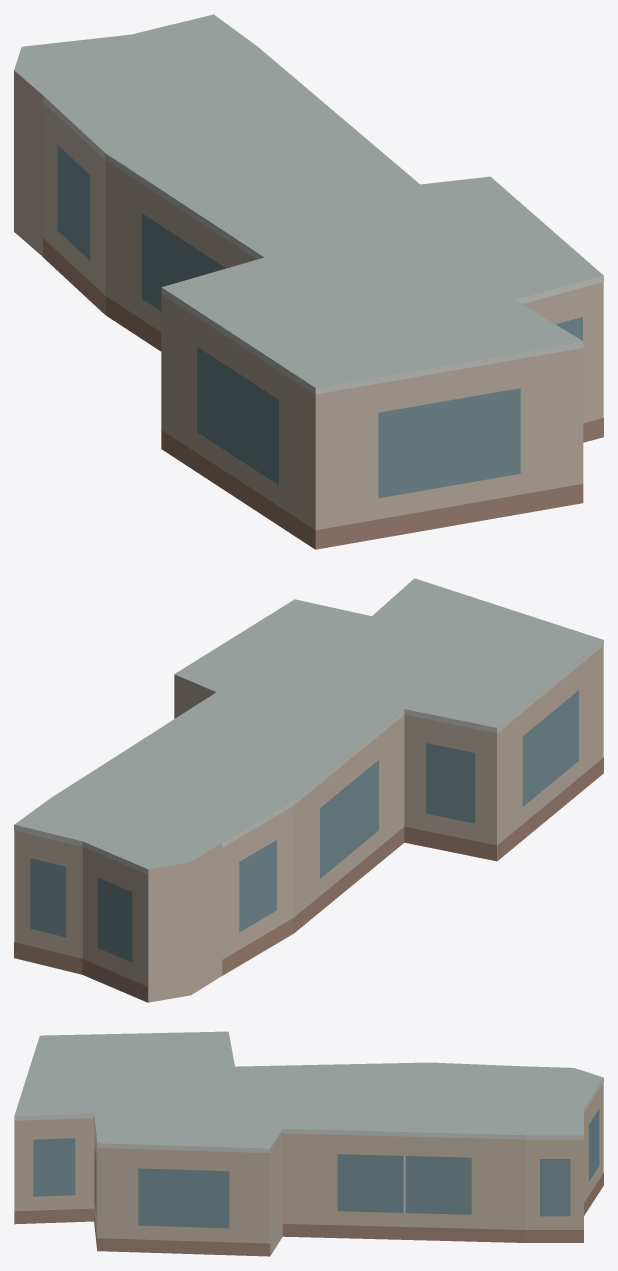
Rendered from survey-upis-32473235.glb.
3 renders of one model, top to bottom at view 1: azimuth 30°, elevation 25°; view 2: azimuth 150°, elevation 25°; view 3: azimuth 270°, elevation 25°, orthographic. The views are drawn at different scales.
Parts seen in each view (by area): view 1: survey-upis-32473235.tmp; view 2: survey-upis-32473235.tmp; view 3: survey-upis-32473235.tmp.
Boxes of the visible parts, x1,y1,x2,y2 form: survey-upis-32473235.tmp: (14, 14, 603, 549); survey-upis-32473235.tmp: (14, 578, 603, 1002); survey-upis-32473235.tmp: (14, 1031, 603, 1256).
Bounding box in the file's own units: 7.13 × 3.05 × 15.14.
